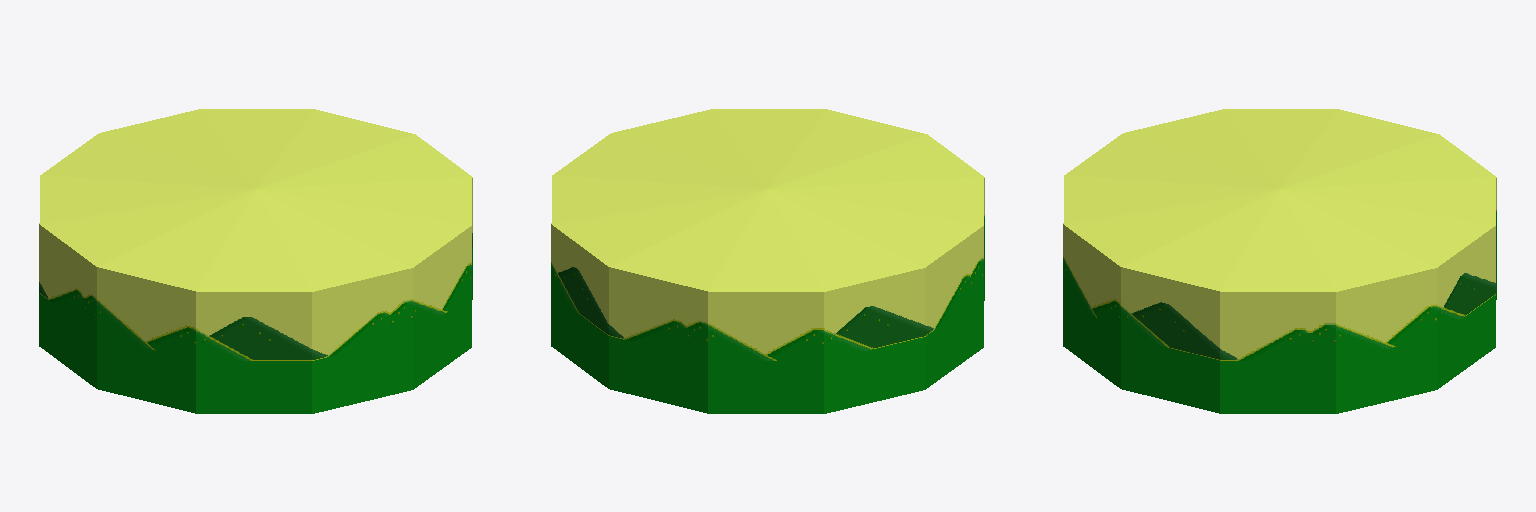
3 renders of one model, left to right at view 1: azimuth 30°, elevation 25°; view 2: azimuth 150°, elevation 25°; view 3: azimuth 270°, elevation 25°, orthographic.
Visible parts, largest first — view 1: polygon1; view 2: polygon1; view 3: polygon1.
Part boxes in pixels (x1,y1,x2,y2): polygon1: (39,109,472,413); polygon1: (551,109,984,413); polygon1: (1063,109,1496,413).
Bounding box in the file's own units: 558 × 190 × 558.
2 materials, 2 textured.